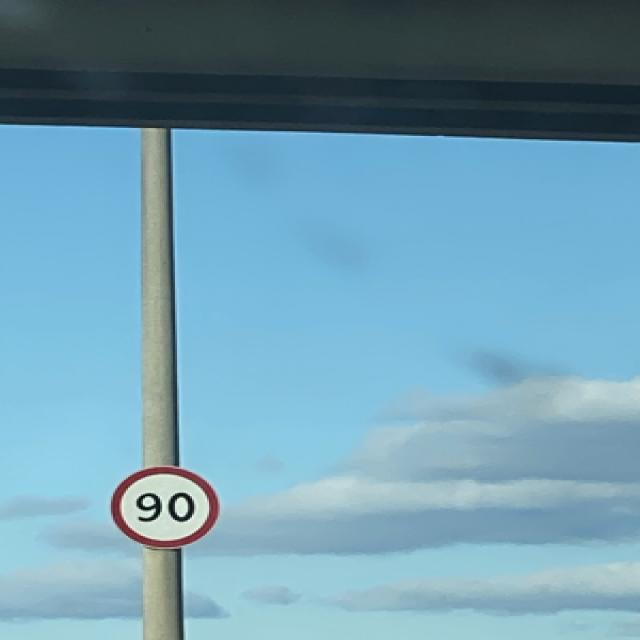speedlimit: (104, 462, 216, 546)
